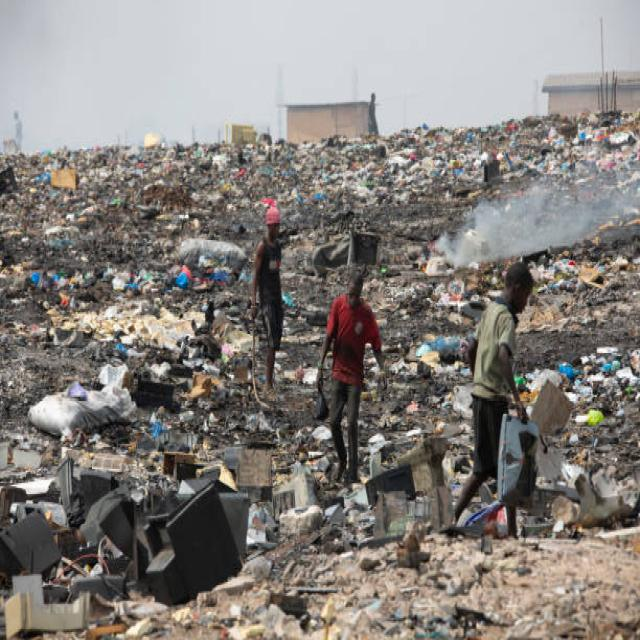cardboard: (478, 398, 617, 522)
metal: (21, 474, 260, 586)
trash: (26, 165, 241, 447), (255, 144, 595, 210)
